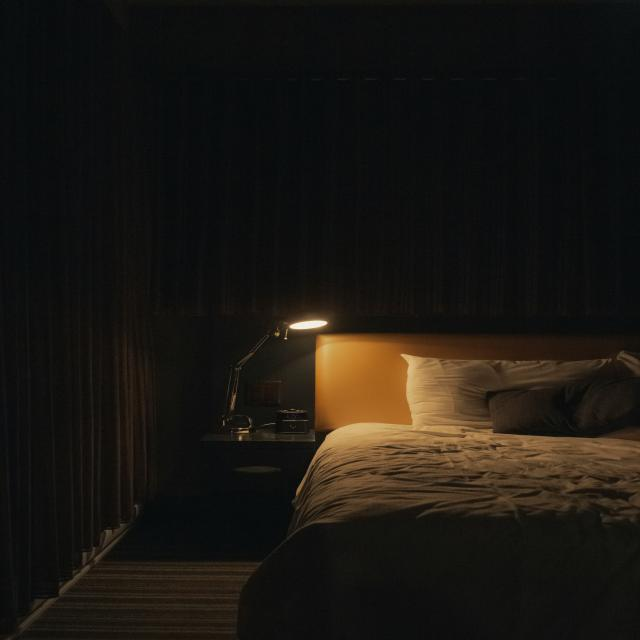floor: (11, 478, 301, 640)
